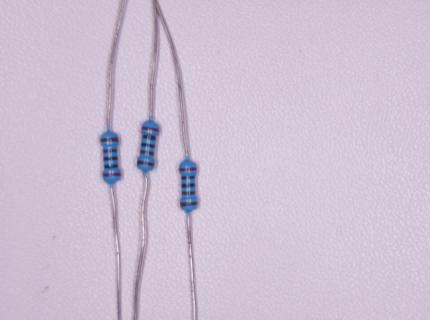Black band: (181, 183, 196, 188), (142, 135, 156, 140), (141, 143, 155, 148), (104, 156, 117, 161), (181, 176, 195, 180), (104, 164, 118, 168)
Brown band: (180, 201, 197, 207), (137, 160, 154, 166), (101, 137, 119, 142), (140, 150, 154, 155), (103, 149, 117, 153), (182, 191, 195, 195)
Red band: (141, 126, 159, 132), (103, 172, 121, 177), (179, 167, 197, 171)
